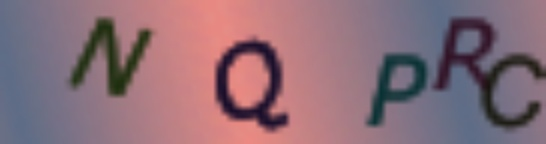C: (481, 49, 546, 133)
N: (67, 16, 156, 100)
P: (362, 47, 432, 130)
Q: (209, 33, 300, 133)
R: (431, 12, 494, 90)
